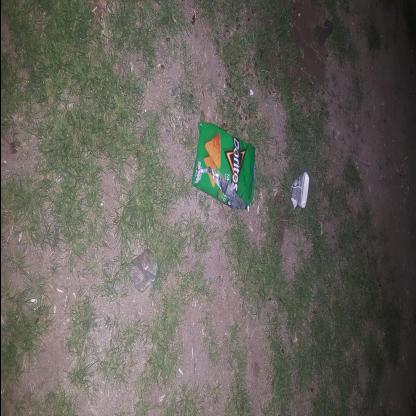karton: (173, 109, 210, 127)
plastik: (122, 162, 215, 226)
